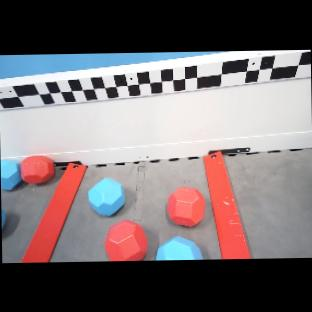Parking-R: (21, 163, 86, 262), (203, 151, 250, 259)
V5_BLUE: (88, 178, 124, 216), (155, 236, 202, 260), (1, 160, 22, 190), (1, 208, 6, 228)
V5_RED: (104, 219, 147, 261), (167, 186, 205, 226), (20, 155, 54, 183)
